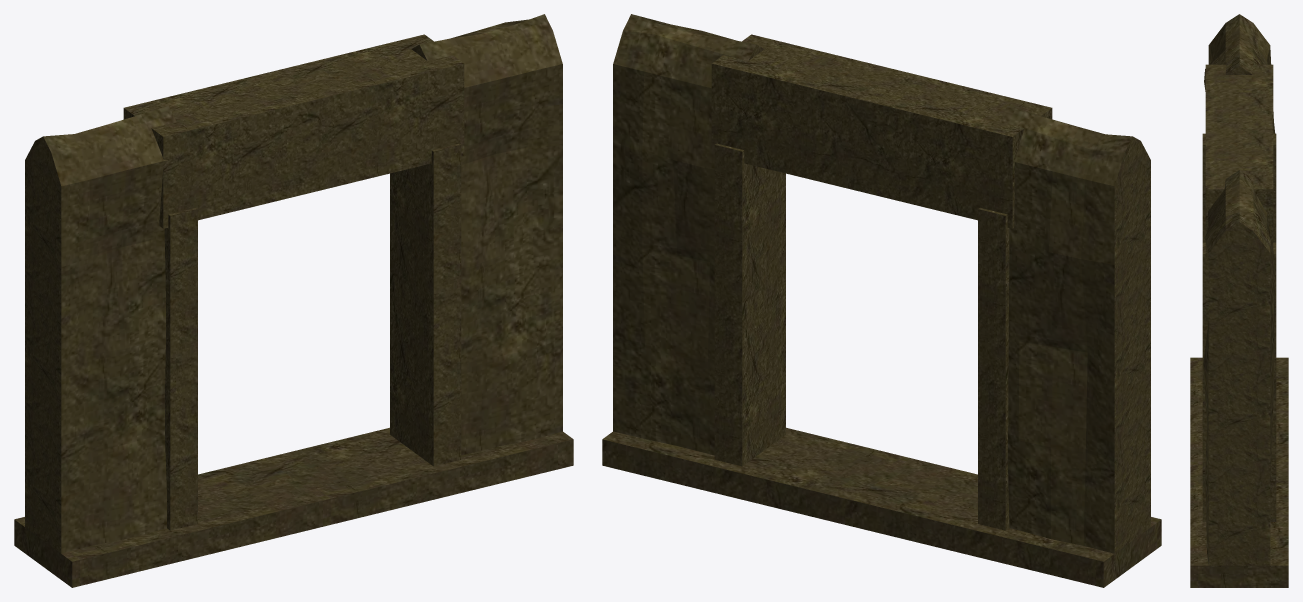
File: cave_gate_01_limestone.glb
3 views of the same model, side by side, from view 1: azimuth 30°, elevation 25°; view 2: azimuth 150°, elevation 25°; view 3: azimuth 270°, elevation 25° (orthographic). The views are drawn at different scales.
Parts seen in each view (by area): view 1: cave_gate_01_limestone; view 2: cave_gate_01_limestone; view 3: cave_gate_01_limestone.
Part boxes in pixels (bbox=[...]): cave_gate_01_limestone: bbox=[14, 14, 573, 587]; cave_gate_01_limestone: bbox=[602, 14, 1161, 587]; cave_gate_01_limestone: bbox=[1190, 14, 1288, 587].
Size of the model in its own units: 4 by 3.28 by 0.7998.
Materials: 2 (2 with a texture image).
